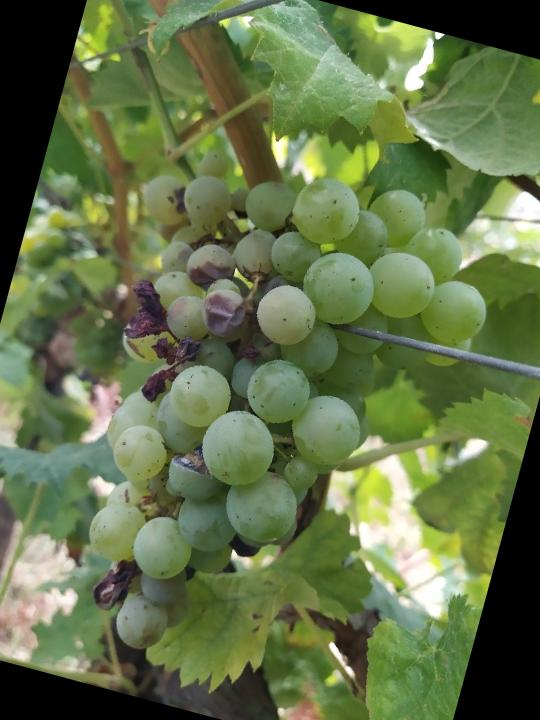grape: (37, 126, 517, 719)
